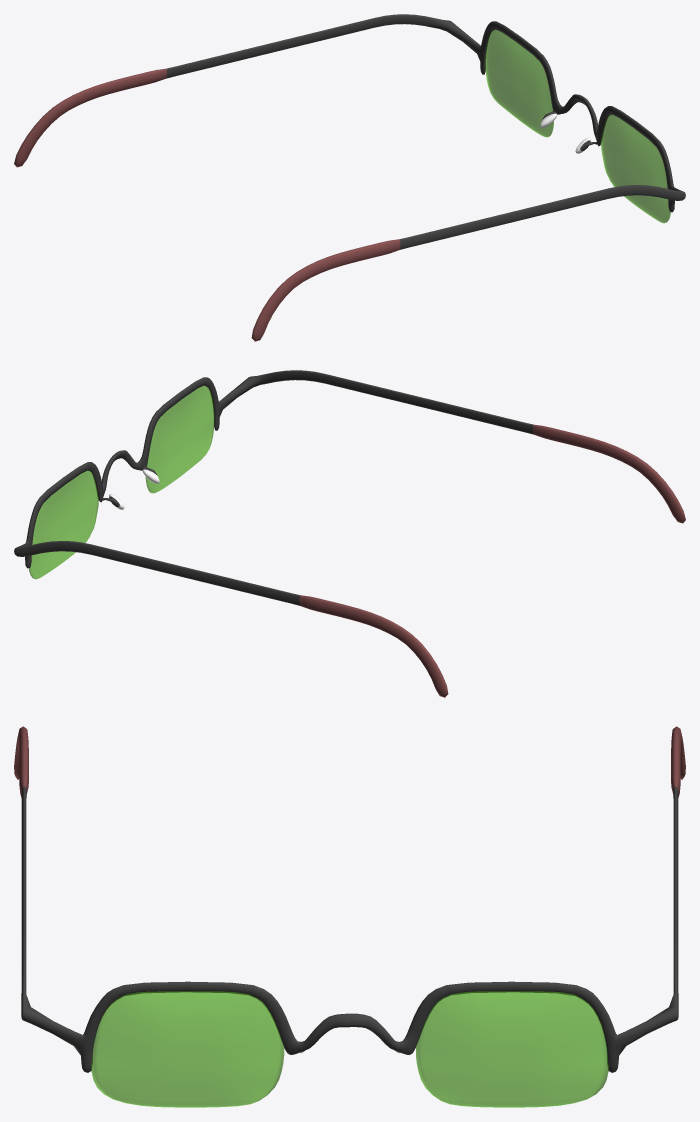
Rendered from GlassesGreen.fbx.
3 renders of one model, top to bottom at view 1: azimuth 30°, elevation 25°; view 2: azimuth 150°, elevation 25°; view 3: azimuth 270°, elevation 25°, orthographic. The views are drawn at different scales.
Visible parts, largest first — view 1: polySurface5; view 2: polySurface5; view 3: polySurface5.
Part boxes in pixels (x1,y1,x2,y2): polySurface5: (14,14,685,341); polySurface5: (14,370,685,697); polySurface5: (14,726,685,1107).
Size of the model in its own units: 186 by 34.55 by 171.
